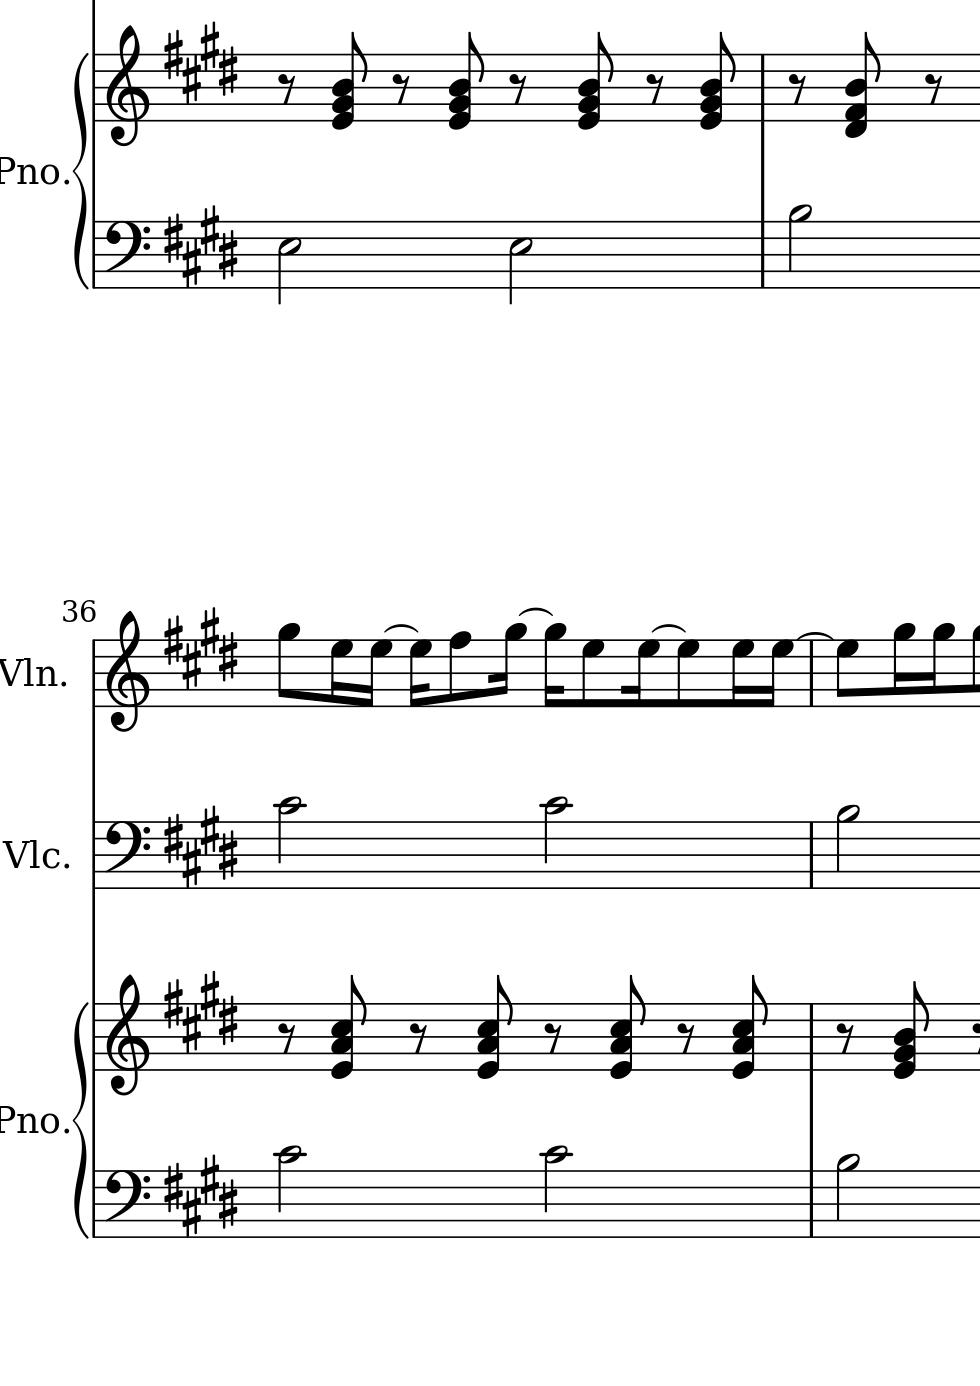16_7: (622, 637, 660, 709), (358, 638, 392, 710), (762, 637, 794, 710), (407, 637, 432, 710), (730, 637, 754, 710), (329, 637, 353, 709)
16_9: (491, 621, 527, 709), (922, 621, 955, 709), (542, 622, 567, 709), (891, 621, 915, 709)
2_10: (273, 1143, 304, 1241), (274, 793, 303, 890), (541, 1144, 571, 1241), (541, 796, 571, 892)
2_5: (506, 220, 532, 305), (276, 220, 301, 304)
2_9: (834, 1153, 861, 1240), (786, 204, 813, 290), (835, 803, 861, 891)
3: (62, 598, 78, 624)
6: (78, 597, 97, 624)
8_7: (673, 638, 700, 709), (834, 638, 860, 709), (580, 638, 605, 708)
8_8: (447, 629, 471, 710)
8_9: (276, 621, 300, 708)
8_th: (727, 971, 773, 1082), (473, 973, 519, 1080), (606, 971, 649, 1080), (841, 34, 885, 138), (574, 36, 619, 131), (696, 32, 740, 129), (328, 972, 367, 1080), (890, 981, 932, 1080), (444, 38, 488, 130), (328, 34, 369, 130)
Brace: (72, 49, 91, 291), (71, 997, 88, 1240)
E_S: (159, 205, 237, 287), (161, 969, 237, 1054), (162, 19, 239, 101), (162, 1154, 238, 1236), (164, 606, 238, 689), (164, 806, 237, 888)
Fclef: (102, 1168, 151, 1241), (103, 819, 151, 892), (102, 218, 148, 290)
Gclef: (104, 973, 152, 1096), (104, 24, 150, 148), (105, 610, 150, 734)
Pno: (1, 154, 59, 189), (1, 1103, 58, 1135)
Rests8: (673, 1021, 698, 1056), (506, 71, 529, 106), (643, 71, 666, 106), (541, 1021, 564, 1056), (275, 1021, 298, 1055), (786, 71, 808, 106), (406, 1021, 428, 1055), (834, 1021, 856, 1055), (390, 71, 412, 106), (923, 71, 944, 106), (276, 71, 297, 105)
Single_barline: (753, 222, 773, 287), (803, 642, 822, 707), (802, 1171, 821, 1236), (753, 55, 771, 122), (802, 1004, 820, 1070), (803, 822, 820, 887), (88, 54, 102, 123), (88, 221, 102, 290), (87, 822, 101, 889), (87, 641, 100, 708), (88, 1003, 101, 1071), (89, 1171, 101, 1236)
Slur: (649, 622, 687, 635), (517, 606, 554, 618), (382, 622, 419, 635), (797, 632, 833, 641)
Vlc: (2, 834, 60, 877)
Vln: (1, 653, 59, 694)
